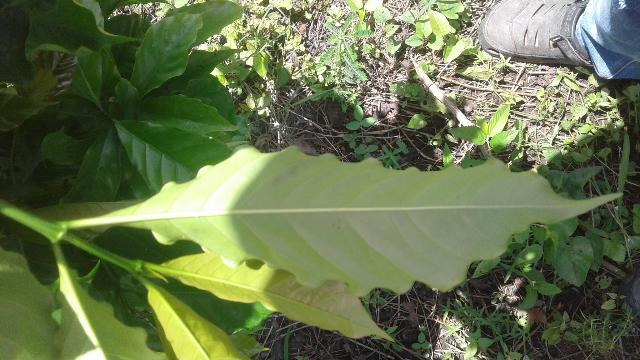healthy: (82, 139, 634, 296)
